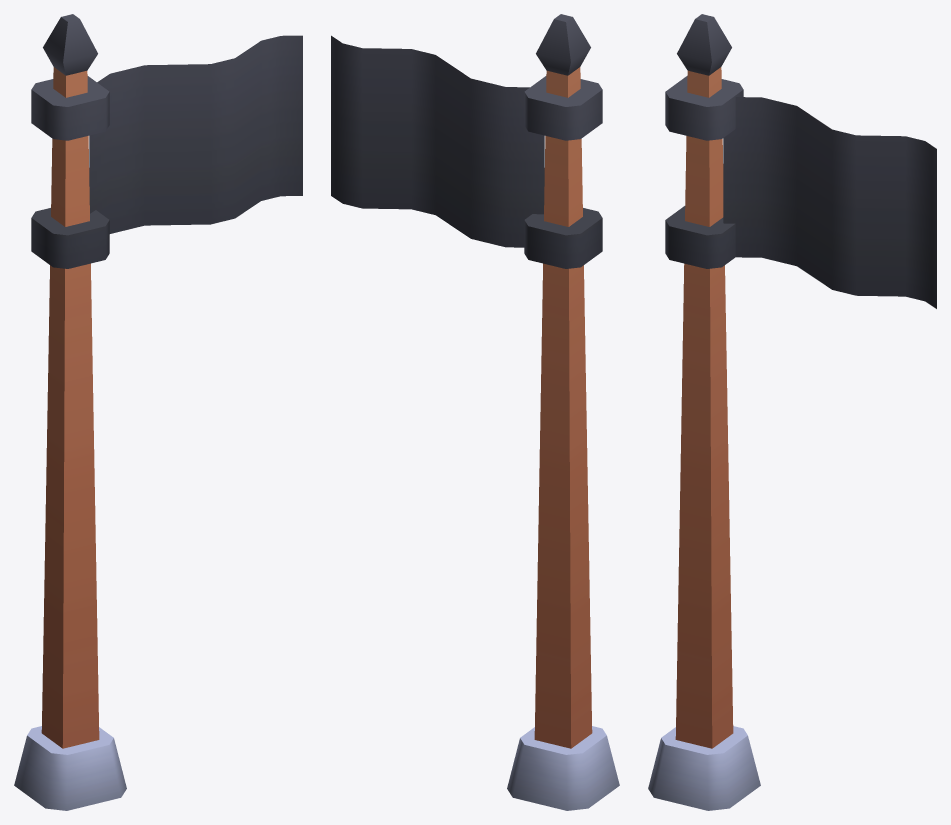
File: flag-pirate-high.glb
3 renders of one model, left to right at view 1: azimuth 30°, elevation 25°; view 2: azimuth 150°, elevation 25°; view 3: azimuth 330°, elevation 25°, orthographic.
Parts seen in each view (by area): view 1: flag-pirate-high; view 2: flag-pirate-high; view 3: flag-pirate-high.
Boxes of the visible parts, x1,y1,x2,y2 form: flag-pirate-high: (14, 14, 302, 810); flag-pirate-high: (331, 14, 619, 810); flag-pirate-high: (648, 14, 936, 810).
Size of the model in its own units: 1.34 by 3.6 by 0.3987.
1 material, 1 textured.
